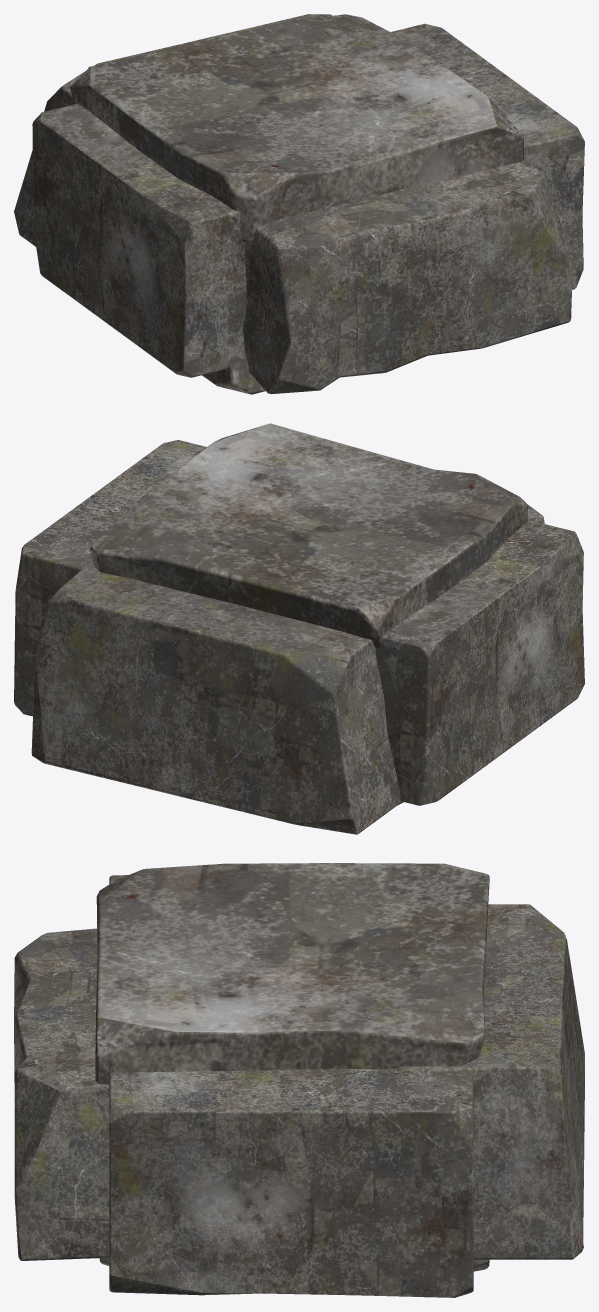
The model's file is SM_CastleTower_Floor_Seam_B_04.fbx.
3 views of the same model, one above another, from view 1: azimuth 30°, elevation 25°; view 2: azimuth 150°, elevation 25°; view 3: azimuth 270°, elevation 25° (orthographic). The views are drawn at different scales.
Visible parts, largest first — view 1: SM_CastleTower_Floor_Seam_B_04_LOD0; view 2: SM_CastleTower_Floor_Seam_B_04_LOD0; view 3: SM_CastleTower_Floor_Seam_B_04_LOD0.
Part boxes in pixels (x1,y1,x2,y2): SM_CastleTower_Floor_Seam_B_04_LOD0: (14,14,584,394); SM_CastleTower_Floor_Seam_B_04_LOD0: (14,423,584,834); SM_CastleTower_Floor_Seam_B_04_LOD0: (14,863,584,1297).
Bounding box in the file's own units: 165 × 169 × 82.69.
